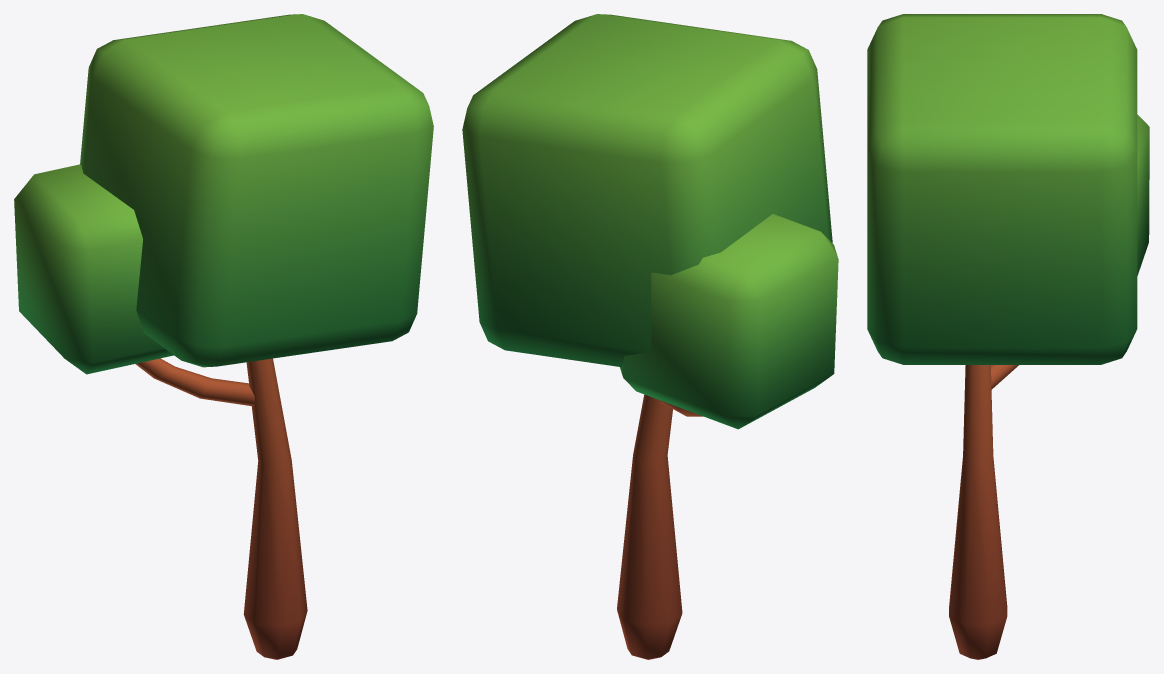
The model's file is Tree2A.glb.
3 renders of one model, left to right at view 1: azimuth 30°, elevation 25°; view 2: azimuth 150°, elevation 25°; view 3: azimuth 270°, elevation 25°, orthographic. The views are drawn at different scales.
Parts seen in each view (by area): view 1: Tree_2_A_Color1; view 2: Tree_2_A_Color1; view 3: Tree_2_A_Color1.
Part boxes in pixels (left/top/right/bottom): Tree_2_A_Color1: left=14, top=14, right=433, bottom=659; Tree_2_A_Color1: left=462, top=14, right=838, bottom=659; Tree_2_A_Color1: left=867, top=14, right=1149, bottom=659.
Bounding box in the file's own units: 2.6 × 4.67 × 2.
Materials: 1 (1 with a texture image).
